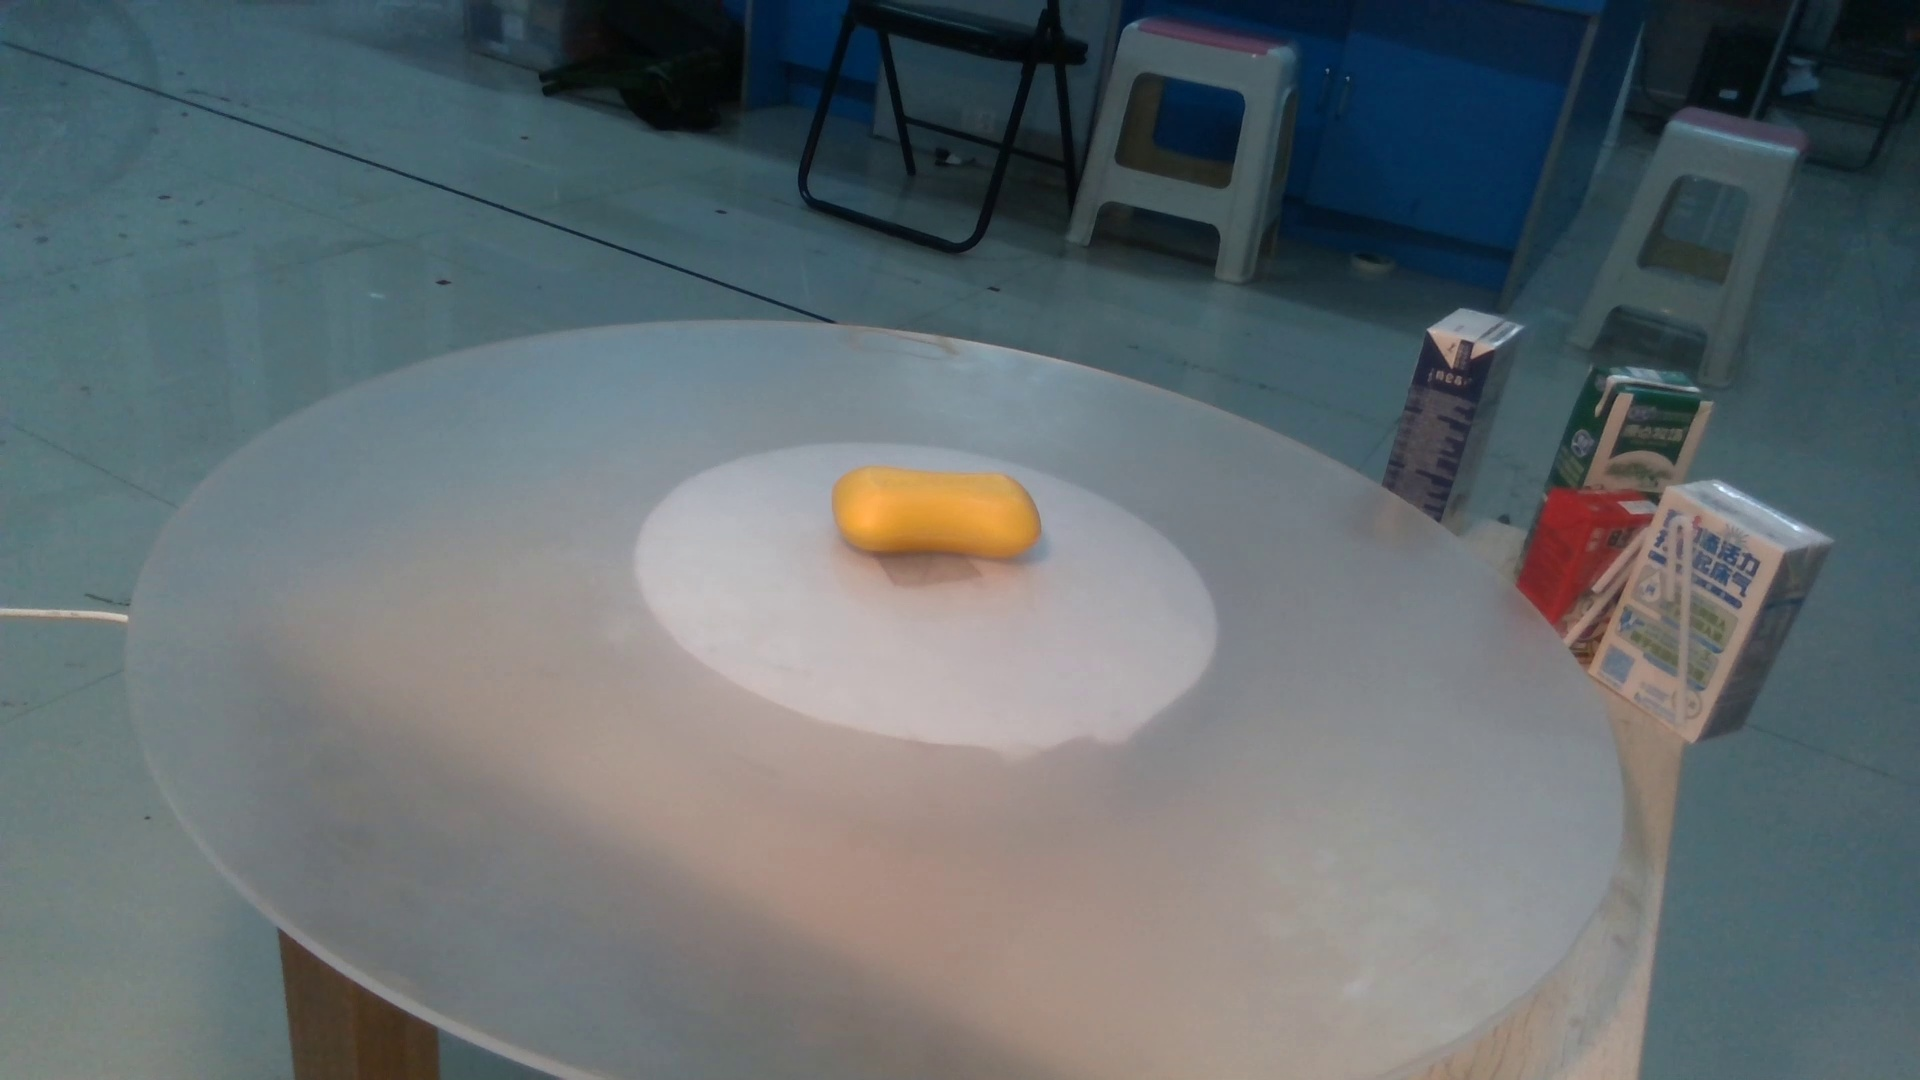CA003_1: (833, 439, 1056, 575)
